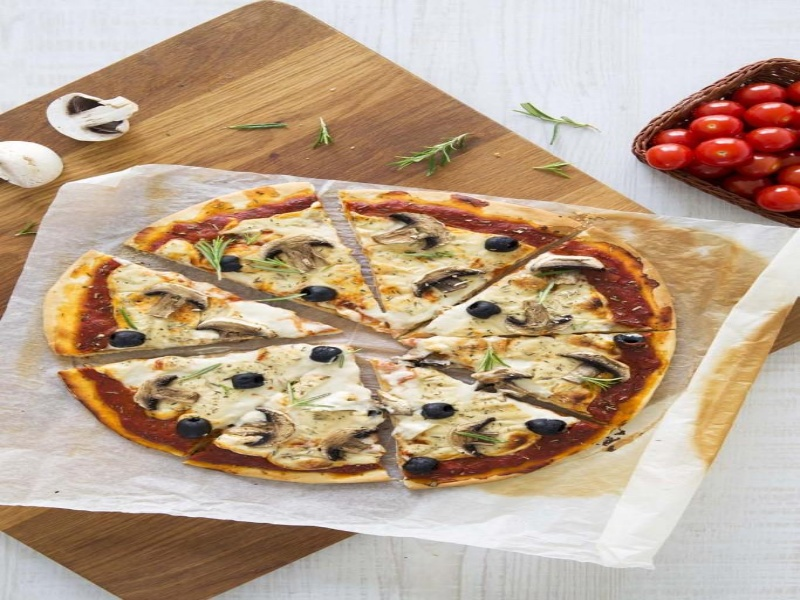champignon: (218, 402, 300, 454), (371, 211, 455, 257), (255, 232, 338, 278), (125, 370, 209, 412), (311, 422, 388, 464), (554, 349, 634, 389), (138, 278, 211, 320), (500, 299, 579, 335), (189, 313, 279, 344), (530, 254, 608, 289), (412, 263, 486, 295)
